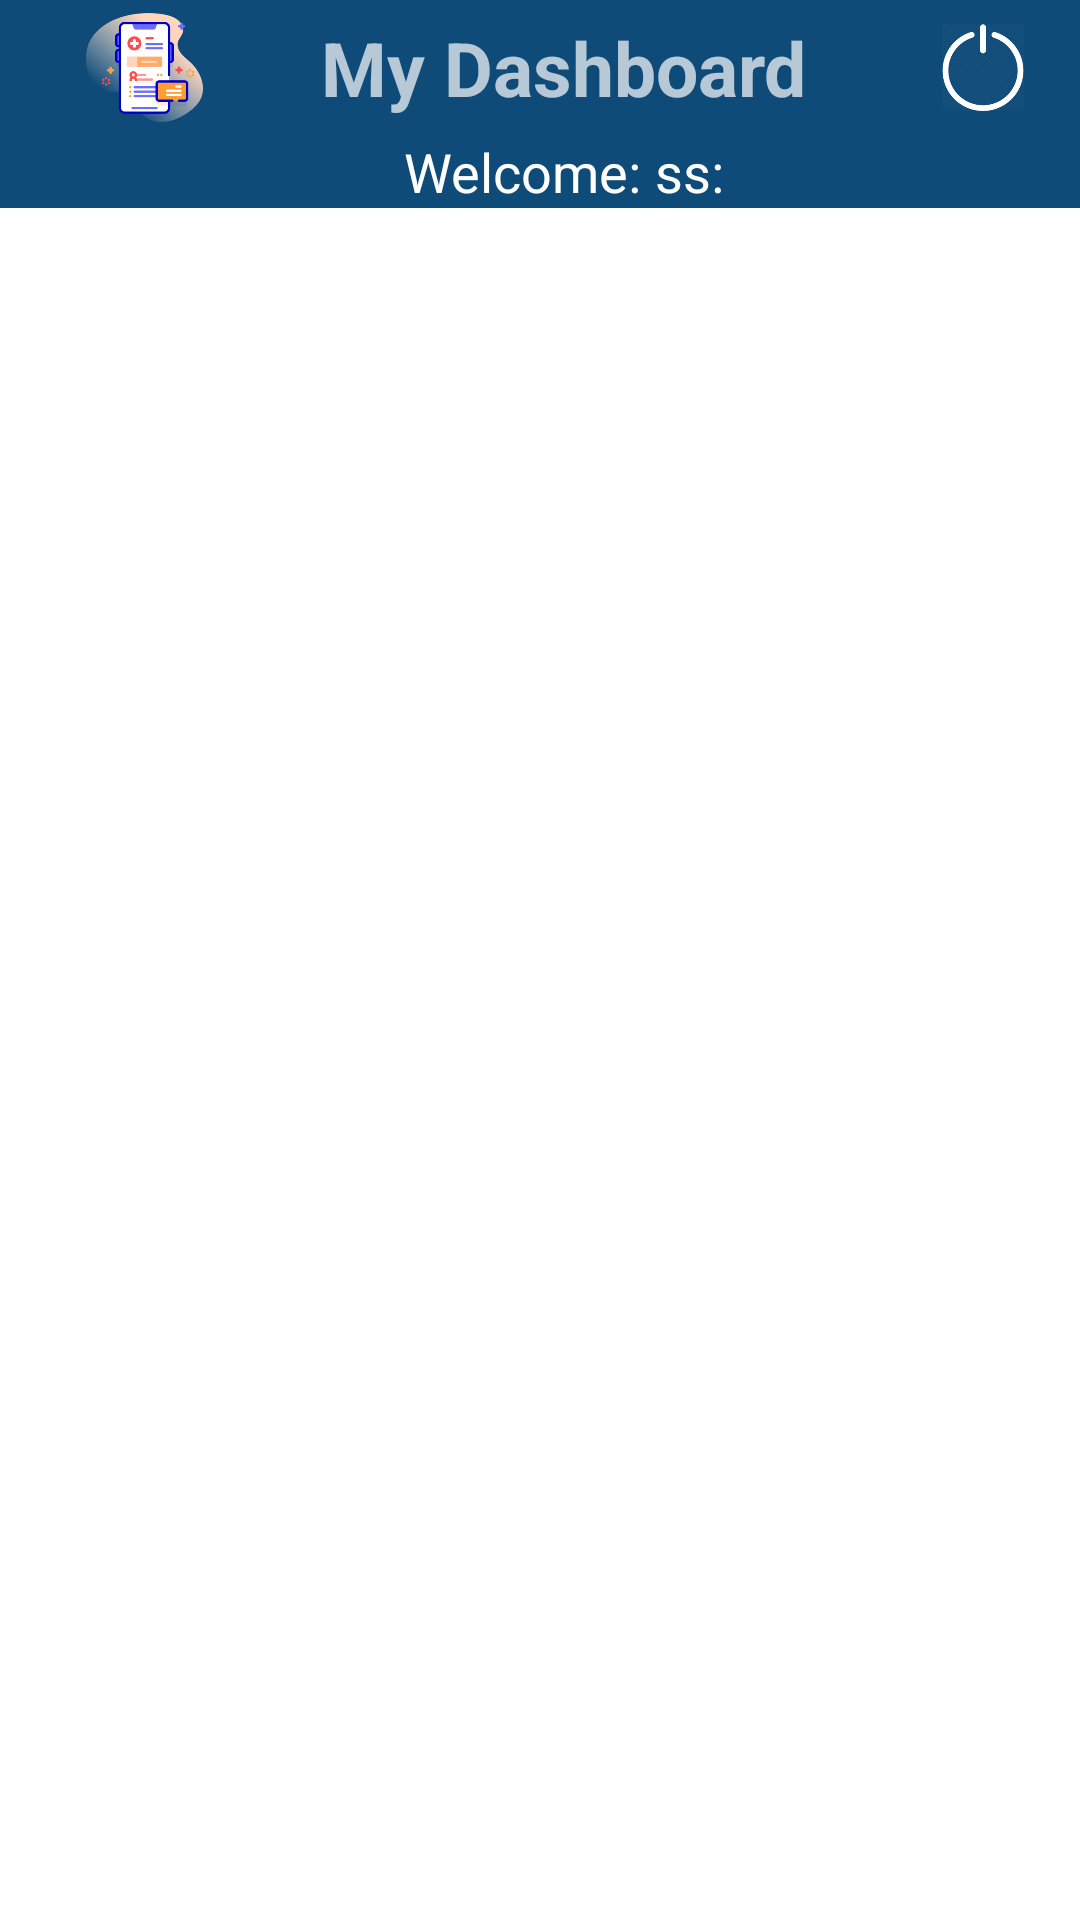

Icon click points for this 1080px×1920px phone screenshot, format (x,y):
menureport: (144,67)
